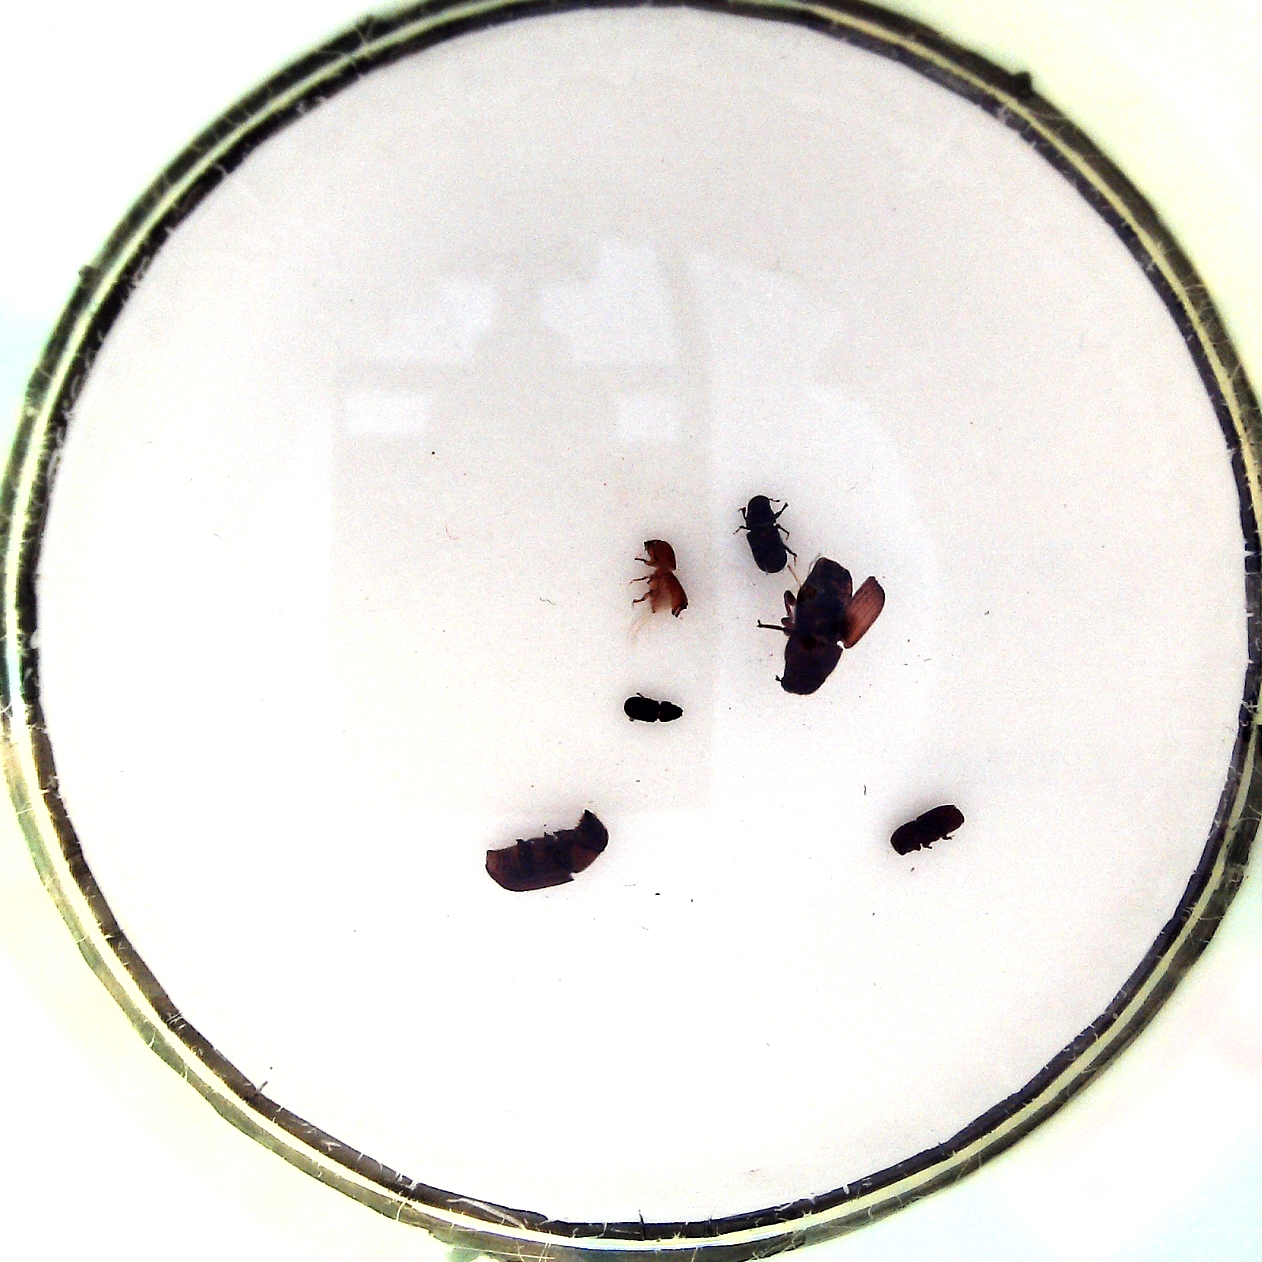Leconte: (767, 552, 886, 695), (481, 807, 611, 893)
Linnaeus: (886, 803, 968, 858)
acuminatus: (630, 536, 688, 630)
armandi: (737, 492, 794, 574)
coleoptera: (624, 689, 685, 728)
